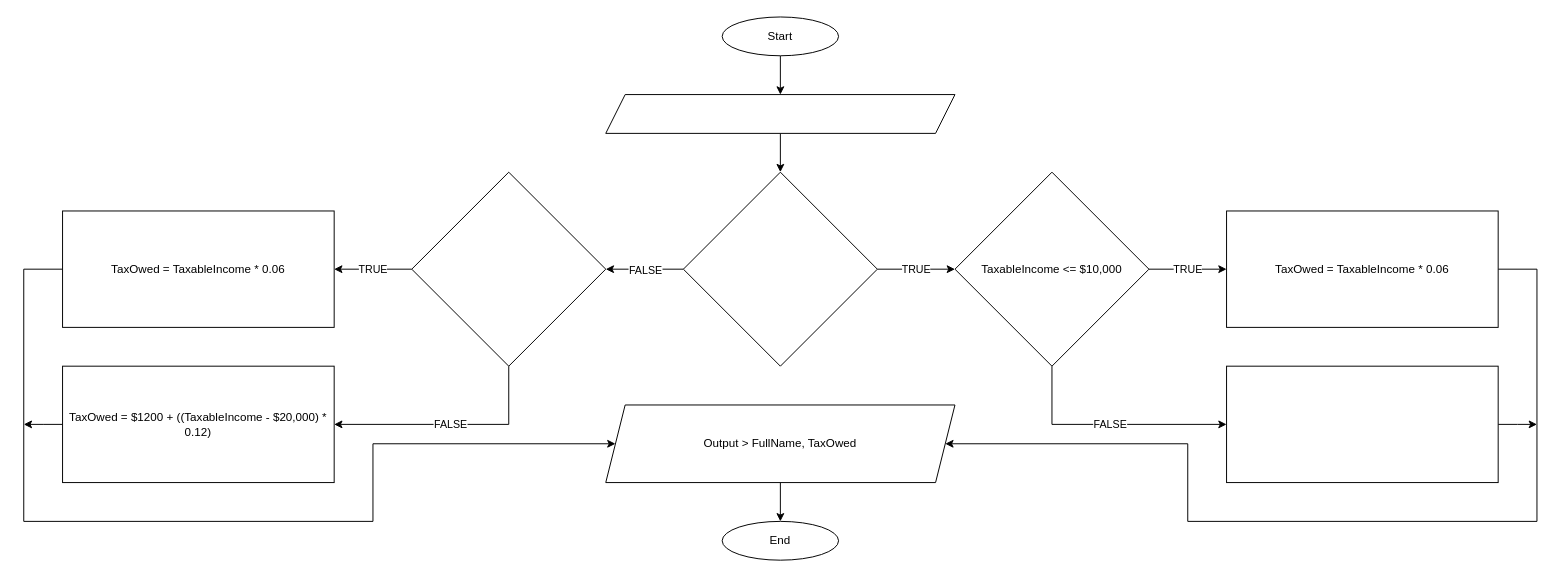
Image size: 1562x577. Some labels were removed from this diagram. The centre of each missing label's shape, as x and y in pixels:
"FilingStatus == Single" belongs at point 779,268.
"Input > FullName, TaxableIncome, FilingStatus" belongs at point 780,113.
"TaxableIncome <= $20,000" belongs at point 508,268.
"TaxOwed = $600 + ((TaxableIncome - $10,000) * 0.12)" belongs at point 1362,424.
